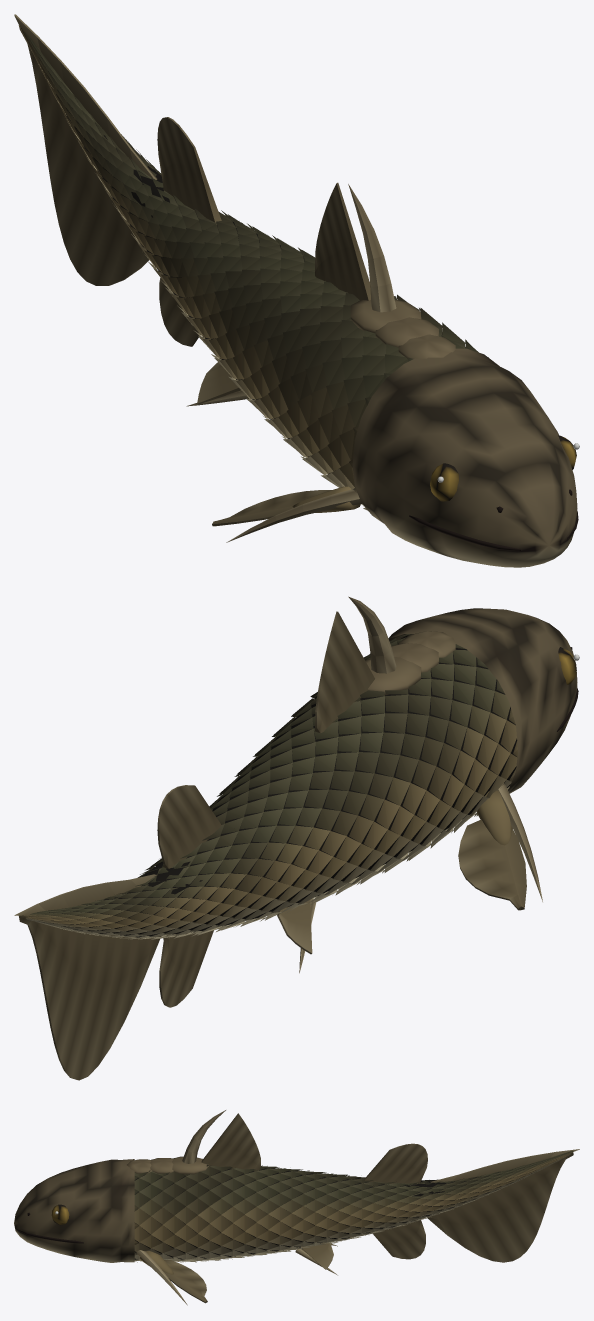
Rendered from Guiyu.fbx.
3 renders of one model, top to bottom at view 1: azimuth 30°, elevation 25°; view 2: azimuth 150°, elevation 25°; view 3: azimuth 270°, elevation 25°, orthographic. The views are drawn at different scales.
Parts seen in each view (by area): view 1: Guiyu; view 2: Guiyu; view 3: Guiyu.
Boxes of the visible parts, x1=… form: Guiyu: x1=14, y1=14, x2=579, y2=567; Guiyu: x1=14, y1=596, x2=579, y2=1080; Guiyu: x1=14, y1=1110, x2=579, y2=1305.
Size of the model in its own units: 0.557 by 0.4933 by 1.62.
